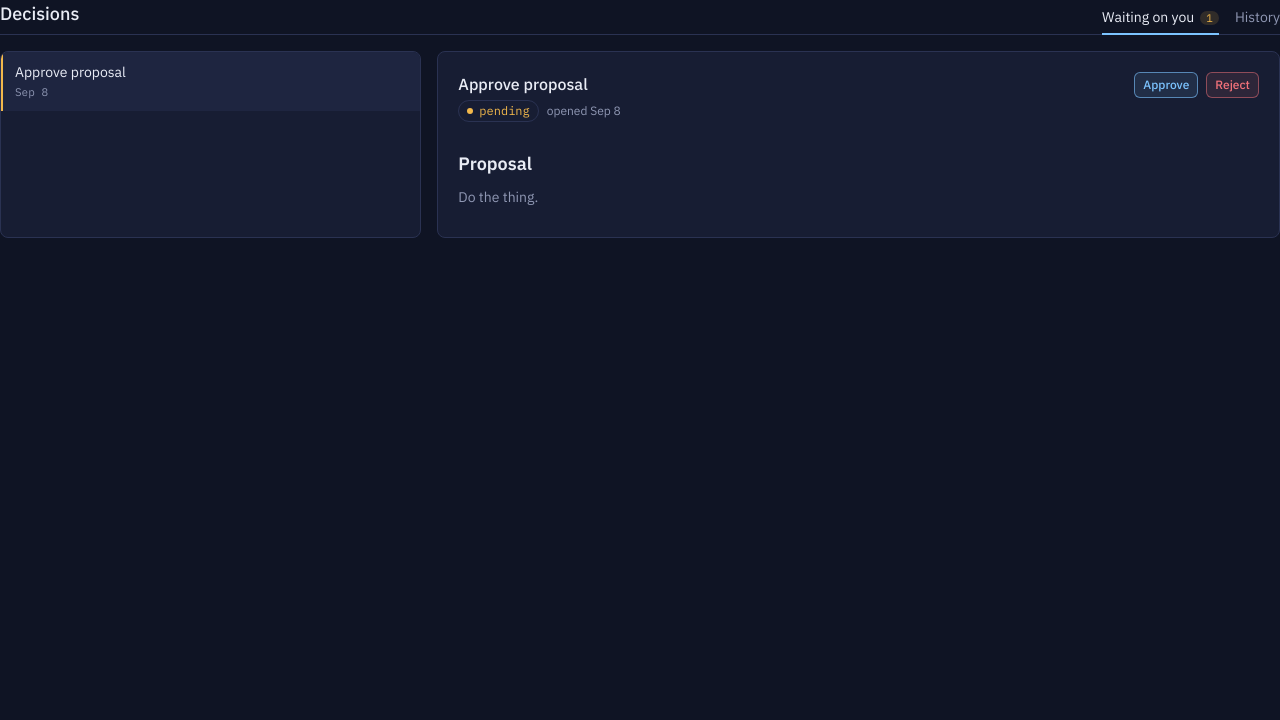
Scenario: DecisionsPanel › moves a resolved decision out of the waiting list
Click the button "Approve" at (1166, 85), box [1134,72,1198,98]
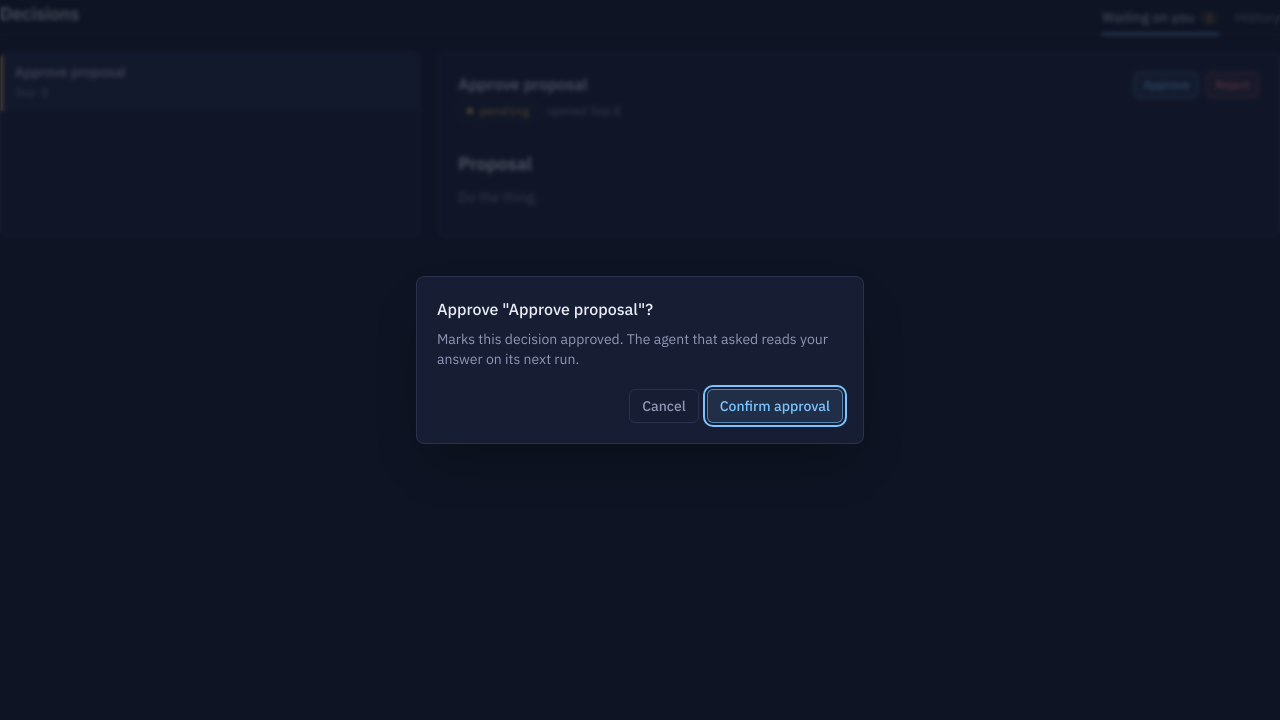
Click the button "Confirm approval" at (775, 406), box [707,389,843,423]
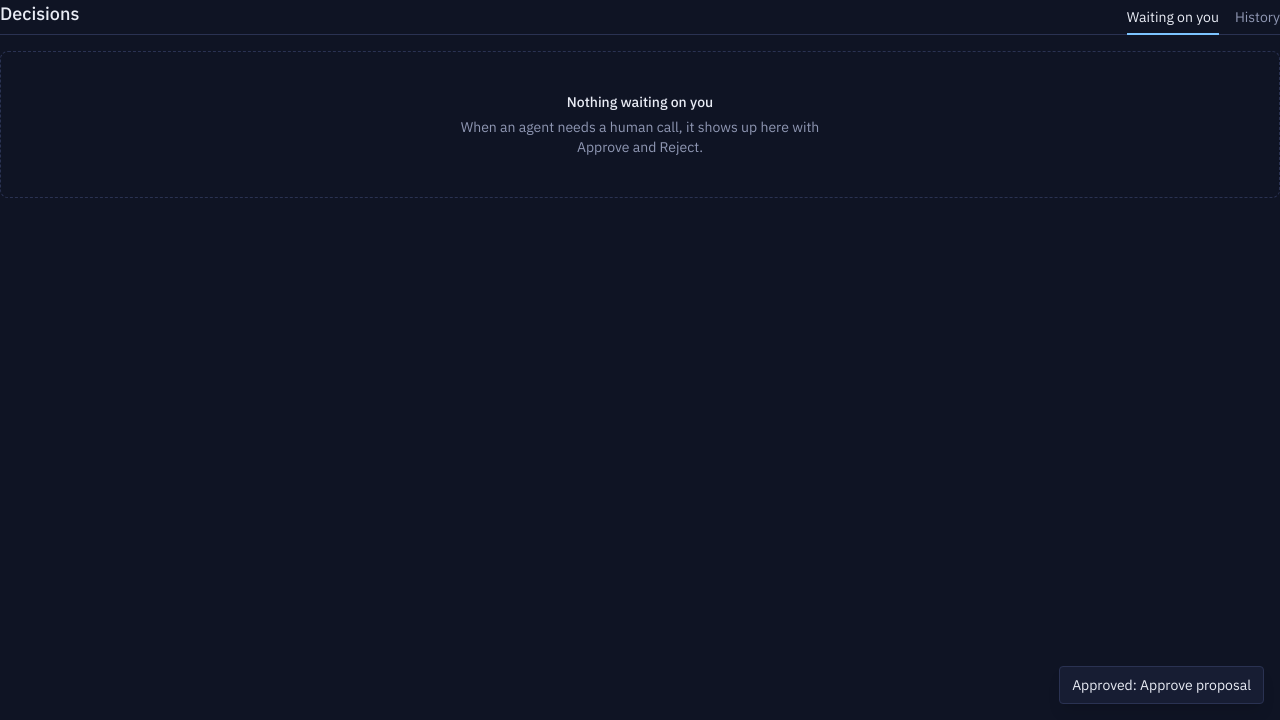
Now the text "Nothing waiting on you" is shown, box [567,92,713,113]
